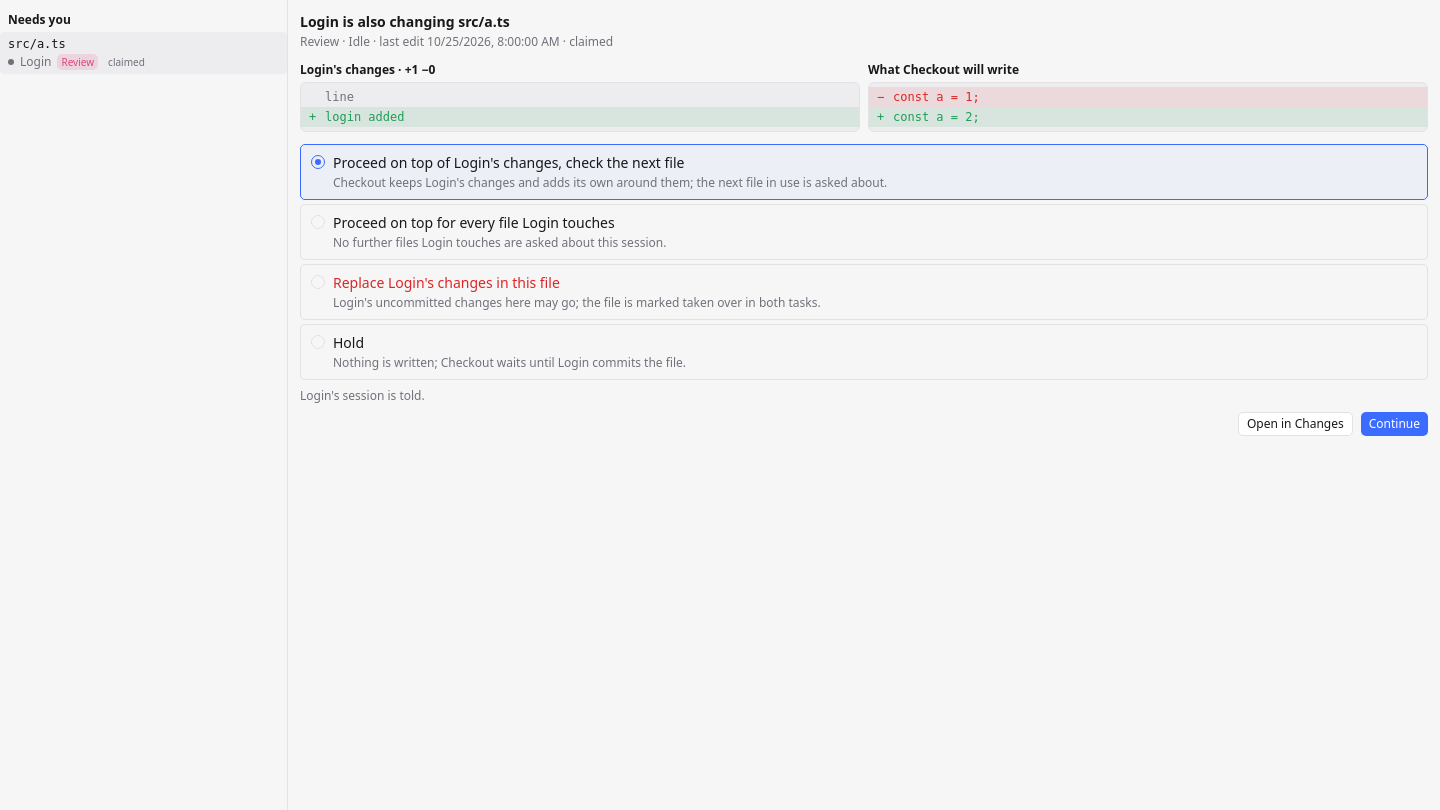
OverlapTab › a failed decide shows the error
What coordinates should you click on to do the following:
click the button "Continue"
I would click on:
 (1394, 424)
Its box is [1361,412,1428,436].
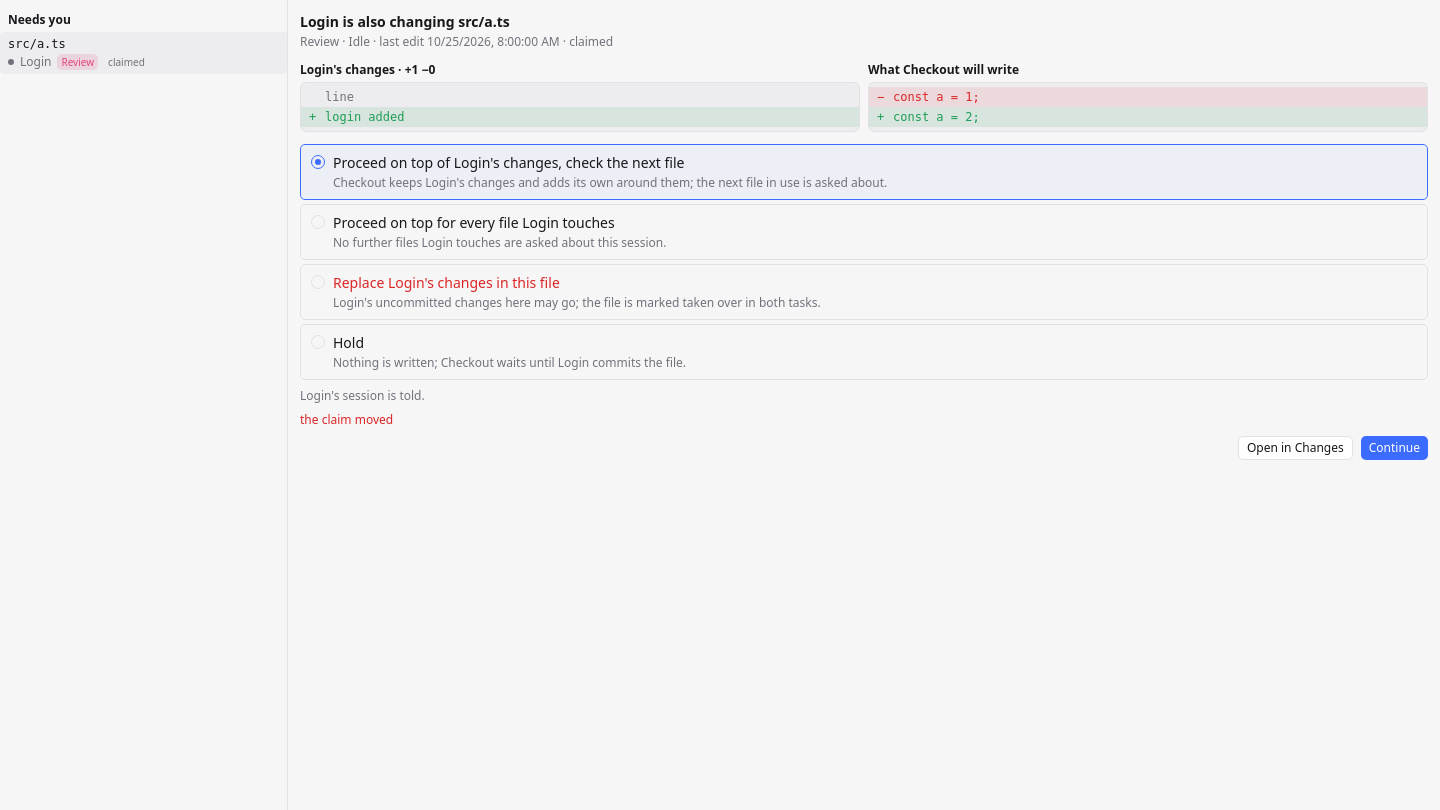
Expected: the message reads "the claim moved", [300,411,393,428]
